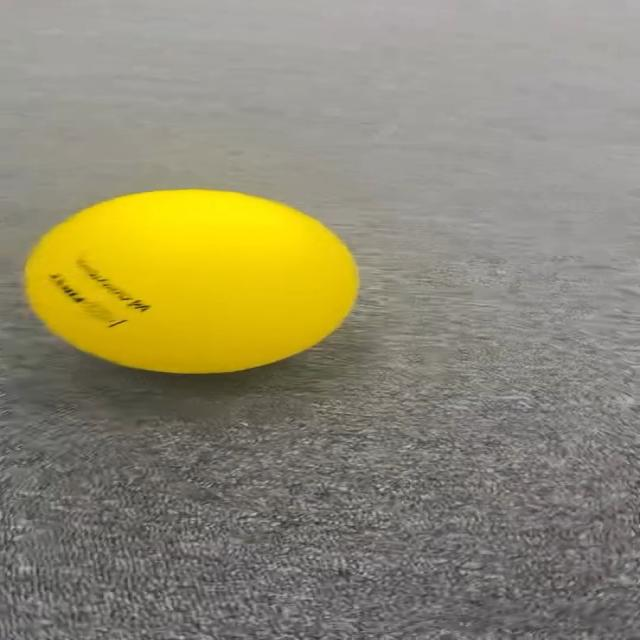Fuels: (25, 190, 359, 370)
